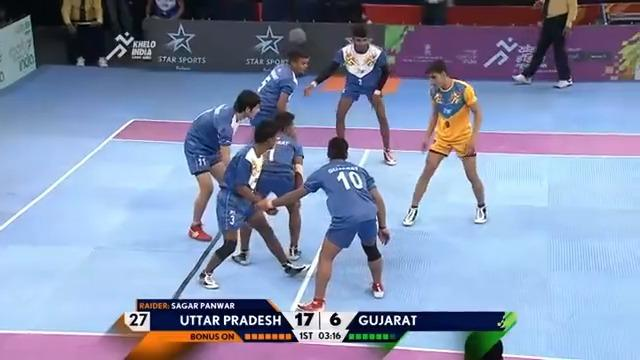Player: (255, 136, 390, 312), (197, 118, 310, 289), (303, 23, 397, 165), (183, 88, 261, 241), (253, 111, 305, 260), (511, 0, 578, 88), (249, 47, 311, 130), (60, 0, 108, 67)
Raider: (401, 58, 488, 226)
